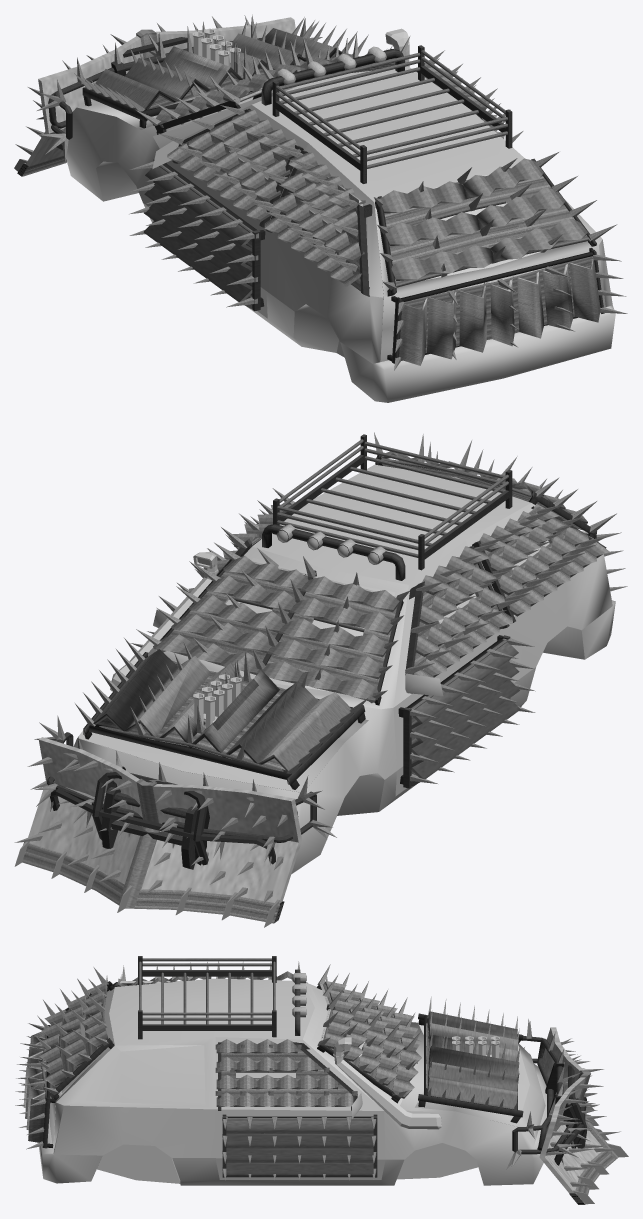
The model's file is SmallCarArmor.fbx.
3 views of the same model, one above another, from view 1: azimuth 30°, elevation 25°; view 2: azimuth 150°, elevation 25°; view 3: azimuth 270°, elevation 25° (orthographic). The views are drawn at different scales.
Parts seen in each view (by area): view 1: Vehicles_SmallCar, trunkreinforcedrear, windowreinforcedrear, roofrack, doorfrontreinforcedleft, windowfrontreinforcedleft, windowrearreinforcedleft, plow, hoodreinforcedfront, windowheavyrear, windowheavyspikedrear, Trunk_obj (+20 smaller); view 2: Vehicles_SmallCar, plow, windowreinforcedfront, hoodreinforcedfront, plow_spiked, hoodreinforcedfrontscoop, roofrack, doorfrontreinforcedleft, windowfrontreinforcedleft, windowrearreinforcedleft, windowheavyfront, Hood_airscoop_obj (+25 smaller); view 3: Vehicles_SmallCar, doorfrontreinforcedright, Window_RearRight_obj, hoodreinforcedfront, windowreinforcedfront, roofrack, windowfrontreinforcedright, plow, Door_FrontRight_obj, hoodreinforcedfrontscoop, windowreinforcedrear, windowfrontheavyright (+21 smaller).
Part boxes in pixels (x1=…): Vehicles_SmallCar: x1=62, y1=66, x2=615, y2=402; trunkreinforcedrear: x1=399, y1=251, x2=600, y2=365; windowreinforcedrear: x1=380, y1=158, x2=587, y2=280; roofrack: x1=272, y1=45, x2=512, y2=183; doorfrontreinforcedleft: x1=144, y1=163, x2=257, y2=308; windowfrontreinforcedleft: x1=167, y1=109, x2=300, y2=222; windowrearreinforcedleft: x1=264, y1=152, x2=365, y2=286; plow: x1=14, y1=17, x2=295, y2=176; hoodreinforcedfront: x1=92, y1=28, x2=342, y2=118; windowheavyrear: x1=375, y1=158, x2=596, y2=296; windowheavyspikedrear: x1=374, y1=152, x2=617, y2=290; Trunk_obj: x1=374, y1=174, x2=605, y2=361; Vehicles_SmallCar: x1=73, y1=464, x2=615, y2=873; plow: x1=14, y1=737, x2=301, y2=927; windowreinforcedfront: x1=153, y1=555, x2=399, y2=702; hoodreinforcedfront: x1=89, y1=649, x2=352, y2=779; plow_spiked: x1=14, y1=740, x2=297, y2=903; hoodreinforcedfrontscoop: x1=89, y1=650, x2=358, y2=779; roofrack: x1=273, y1=434, x2=512, y2=570; doorfrontreinforcedleft: x1=406, y1=639, x2=520, y2=786; windowfrontreinforcedleft: x1=414, y1=546, x2=512, y2=677; windowrearreinforcedleft: x1=479, y1=504, x2=609, y2=616; windowheavyfront: x1=160, y1=561, x2=402, y2=705; Hood_airscoop_obj: x1=77, y1=719, x2=368, y2=792; Vehicles_SmallCar: x1=38, y1=978, x2=546, y2=1185; doorfrontreinforcedright: x1=226, y1=1116, x2=373, y2=1177; Window_RearRight_obj: x1=78, y1=1045, x2=205, y2=1105; hoodreinforcedfront: x1=424, y1=1011, x2=519, y2=1109; windowreinforcedfront: x1=324, y1=981, x2=421, y2=1098; roofrack: x1=138, y1=956, x2=276, y2=1039; windowfrontreinforcedright: x1=216, y1=1039, x2=353, y2=1106; plow: x1=537, y1=1027, x2=628, y2=1204; Door_FrontRight_obj: x1=215, y1=1037, x2=385, y2=1179; hoodreinforcedfrontscoop: x1=428, y1=1012, x2=518, y2=1109; windowreinforcedrear: x1=39, y1=982, x2=108, y2=1086; windowfrontheavyright: x1=218, y1=1042, x2=357, y2=1110.
Bounding box in the file's own units: 246 × 173 × 550.
